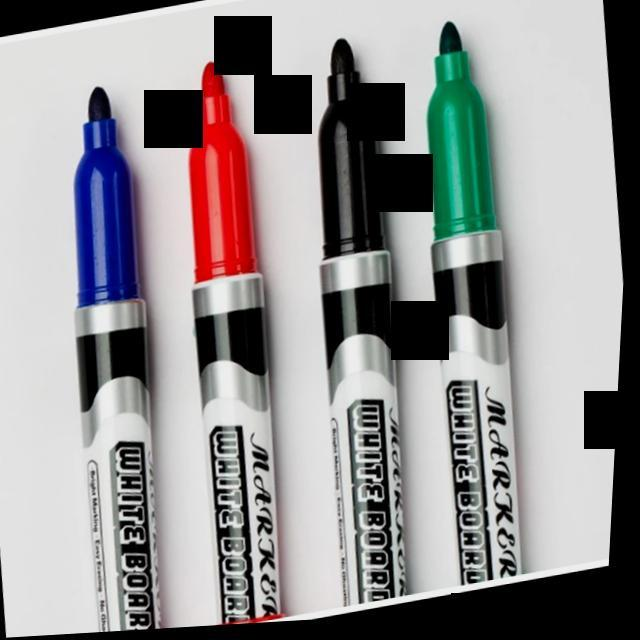marker: (423, 15, 527, 575), (65, 75, 163, 630)
